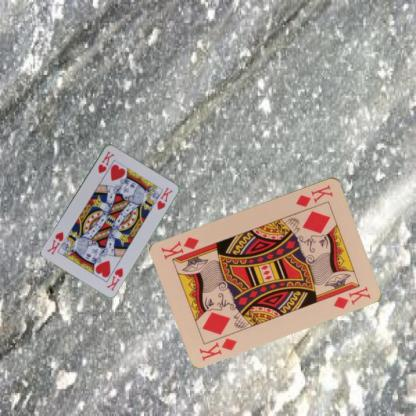Kd: (196, 334, 238, 362), (293, 182, 335, 208)
Kh: (104, 264, 125, 292), (96, 148, 116, 174)
